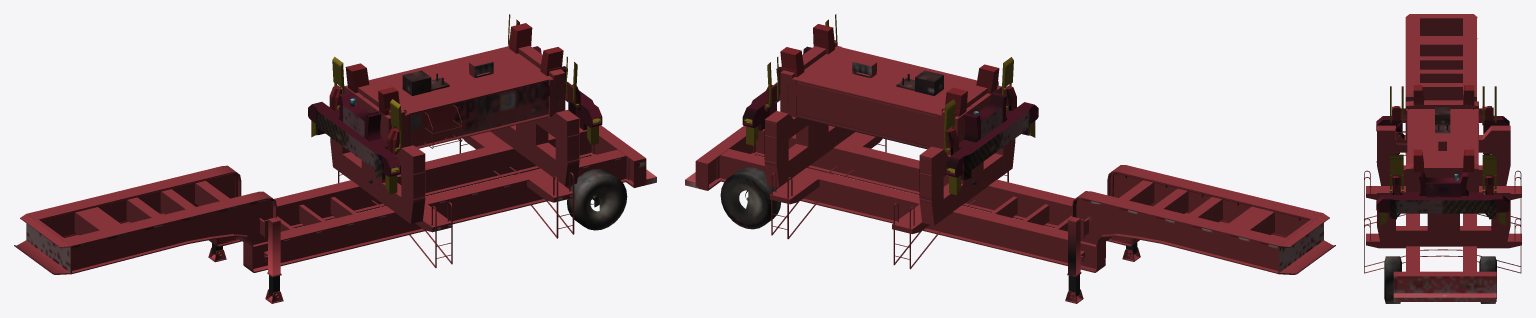
The picture shows the model from 3 angles, left to right: view 1: azimuth 30°, elevation 25°; view 2: azimuth 150°, elevation 25°; view 3: azimuth 270°, elevation 25°; orthographic projection. The views are drawn at different scales.
Visible parts, largest first — view 1: polySurface004; view 2: polySurface004; view 3: polySurface004.
Boxes of the visible parts, box(x1,y1,x2,y2) form: polySurface004: box(14, 14, 656, 303); polySurface004: box(685, 14, 1335, 303); polySurface004: box(1364, 14, 1521, 303).
Size of the model in its own units: 16.64 by 4.6 by 4.76.
1 material, 1 textured.
